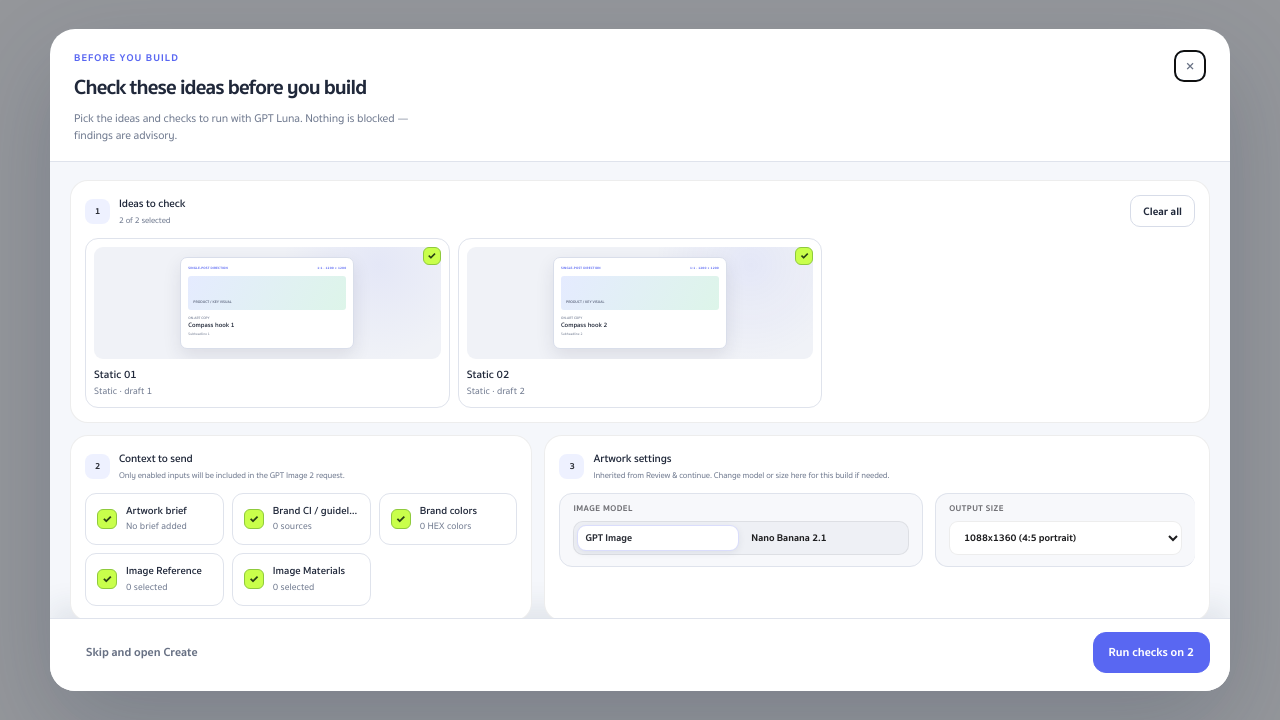
Test: PreflightModal › lets you apply all fixes for just one idea from that idea's own button
Click the button "Run checks on 2": {"x": 1151, "y": 653} 1093,632 -> 1210,673
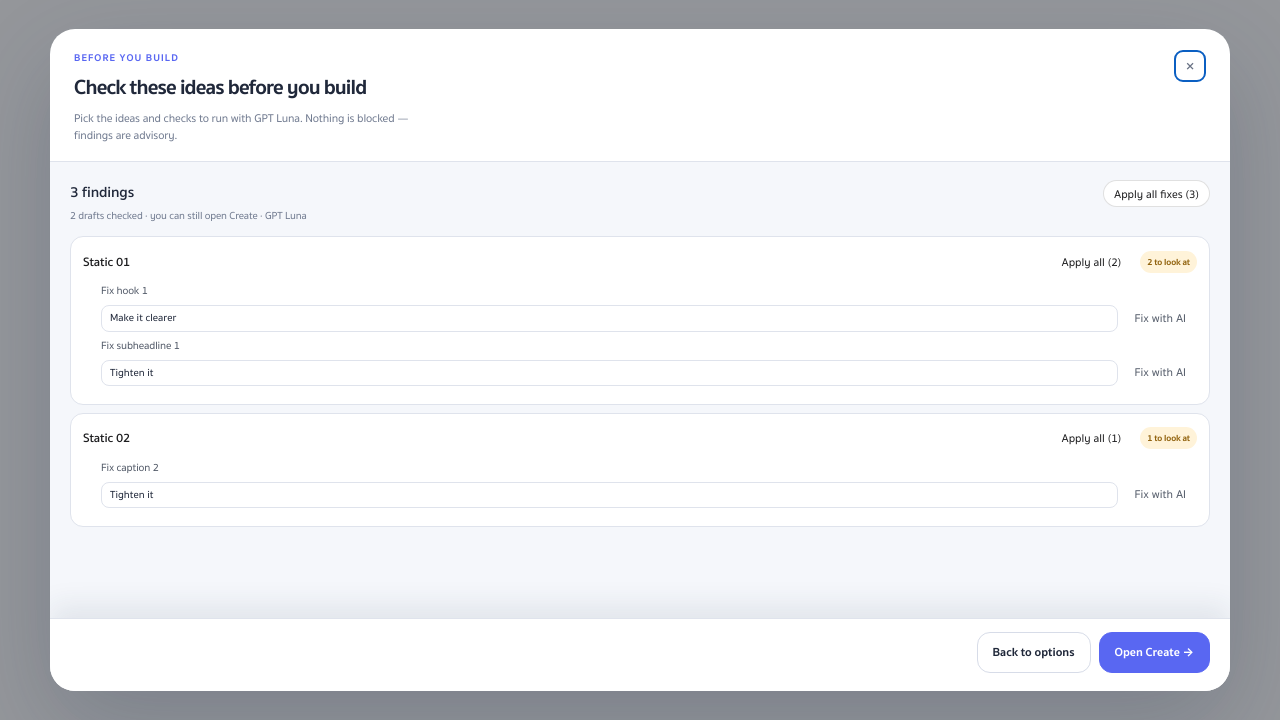
Expected: the text "Fix hook 1" is shown, 101,282 -> 148,299
Expected: the number of buttons "Apply all (2)" is 2
Click the button "Apply all (2)": {"x": 1091, "y": 262} 1050,248 -> 1132,275
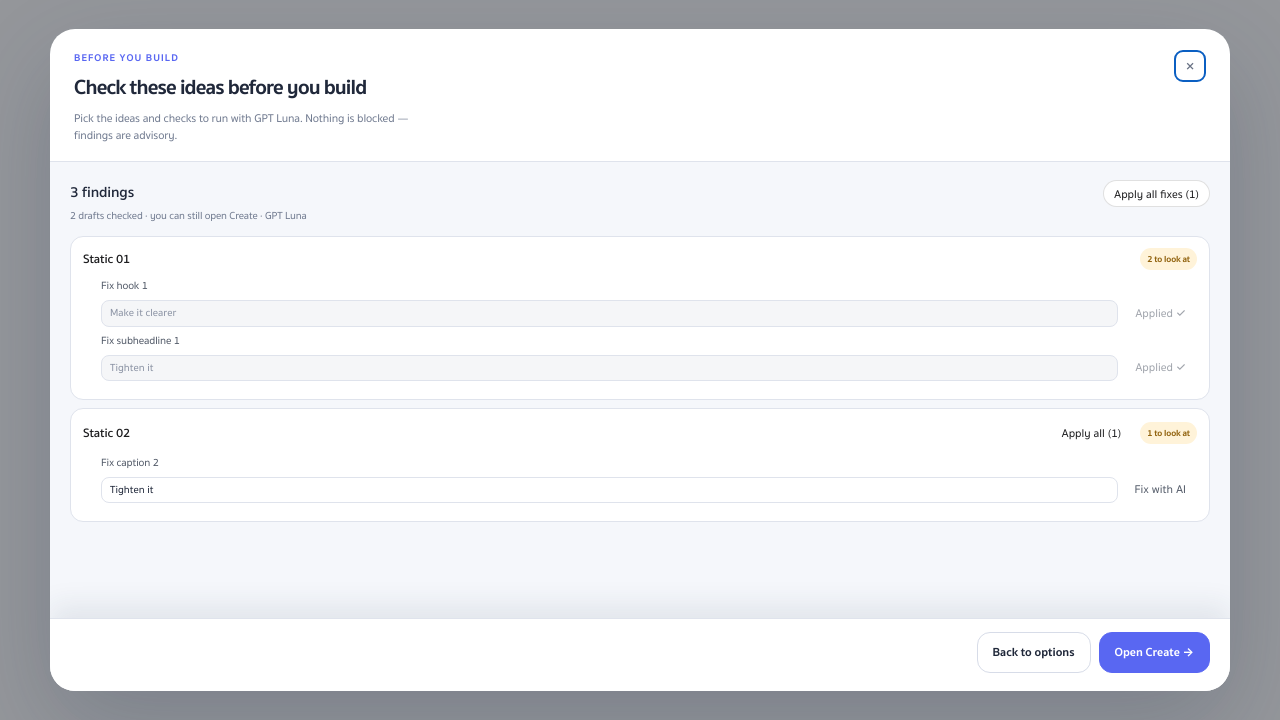
Expected: the button "Apply all (1)" is shown
Expected: the button "Fix with AI" is shown, 1124,476 -> 1197,504
Expected: the number of buttons "Applied ✓" is 2, 1124,300 -> 1197,327; 1124,355 -> 1197,382
Click the button "Apply all (1)": {"x": 1091, "y": 433} 1050,420 -> 1132,447
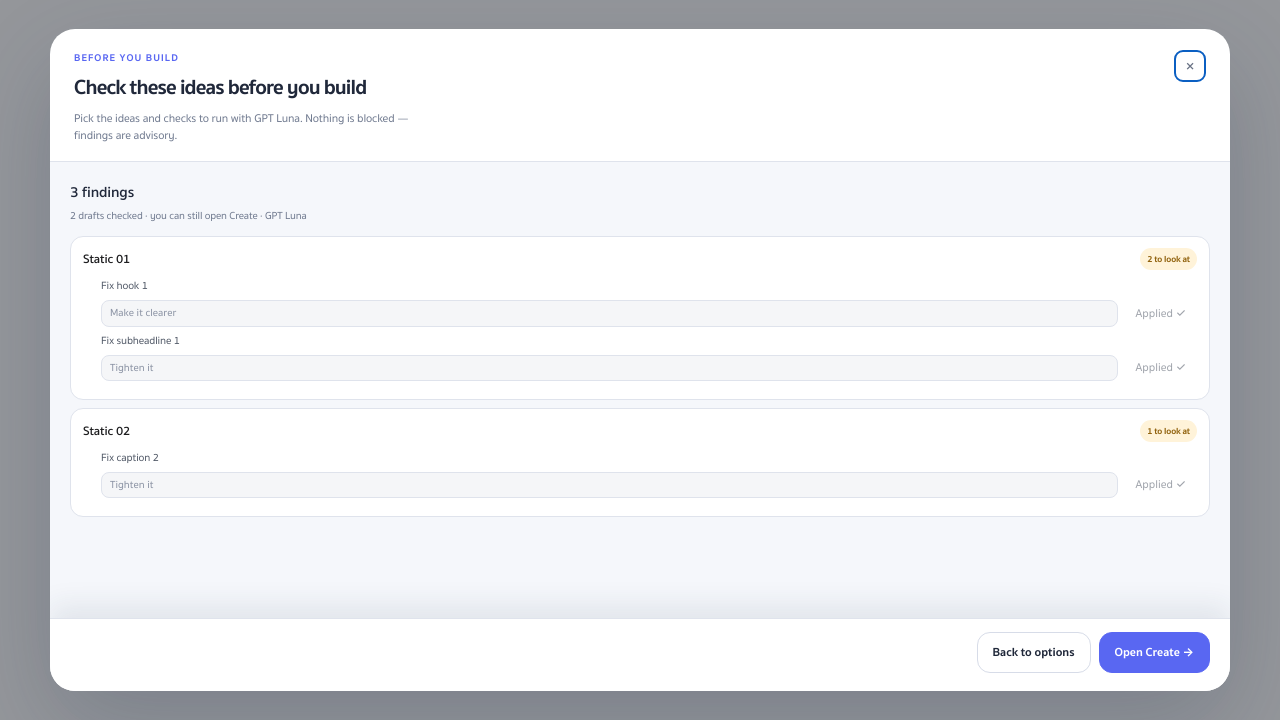
Expected: the number of buttons "Applied ✓" is 3, 1124,300 -> 1197,327; 1124,355 -> 1197,382; 1124,472 -> 1197,498
